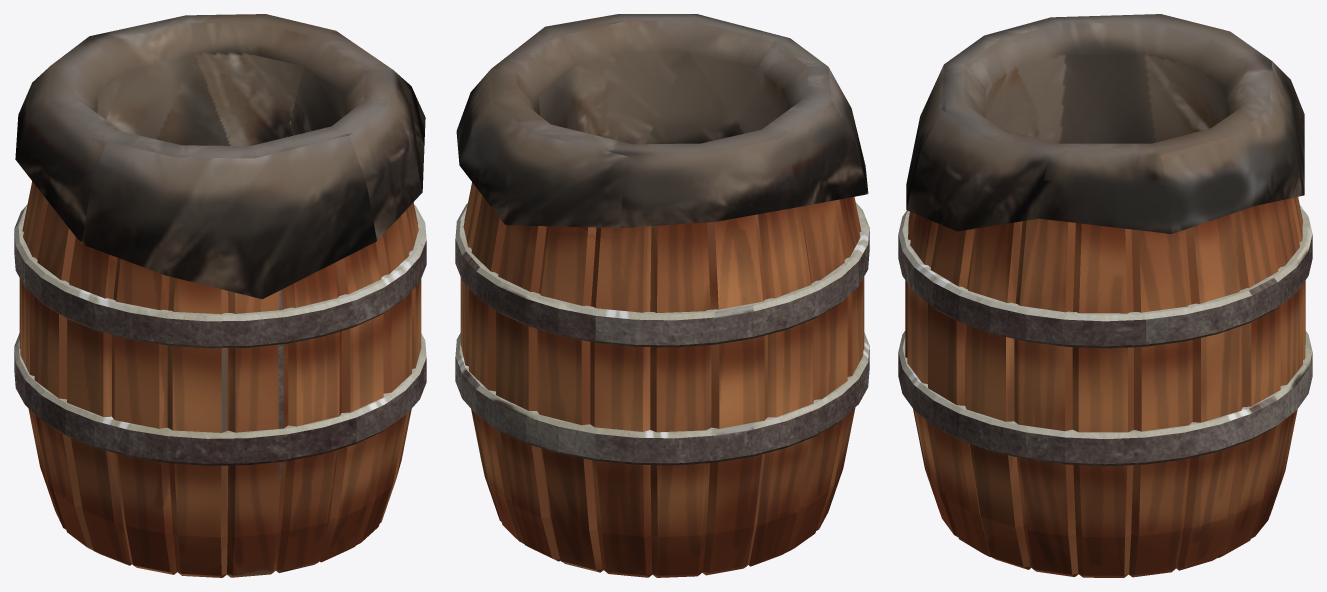
The model's file is final_textured_TonneauTrash.fbx.
3 renders of one model, left to right at view 1: azimuth 30°, elevation 25°; view 2: azimuth 150°, elevation 25°; view 3: azimuth 270°, elevation 25°, orthographic.
Visible parts, largest first — view 1: PoubellePirate; view 2: PoubellePirate; view 3: PoubellePirate.
Boxes of the visible parts, x1,y1,x2,y2 form: PoubellePirate: (14,14,426,577); PoubellePirate: (455,14,869,577); PoubellePirate: (898,14,1312,577).
Bounding box in the file's own units: 179 × 204 × 179.
1 material, 1 textured.
